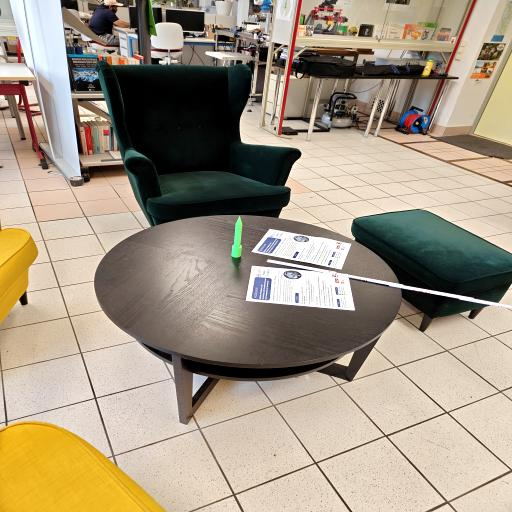Probe-Detection: (231, 216, 242, 257)
